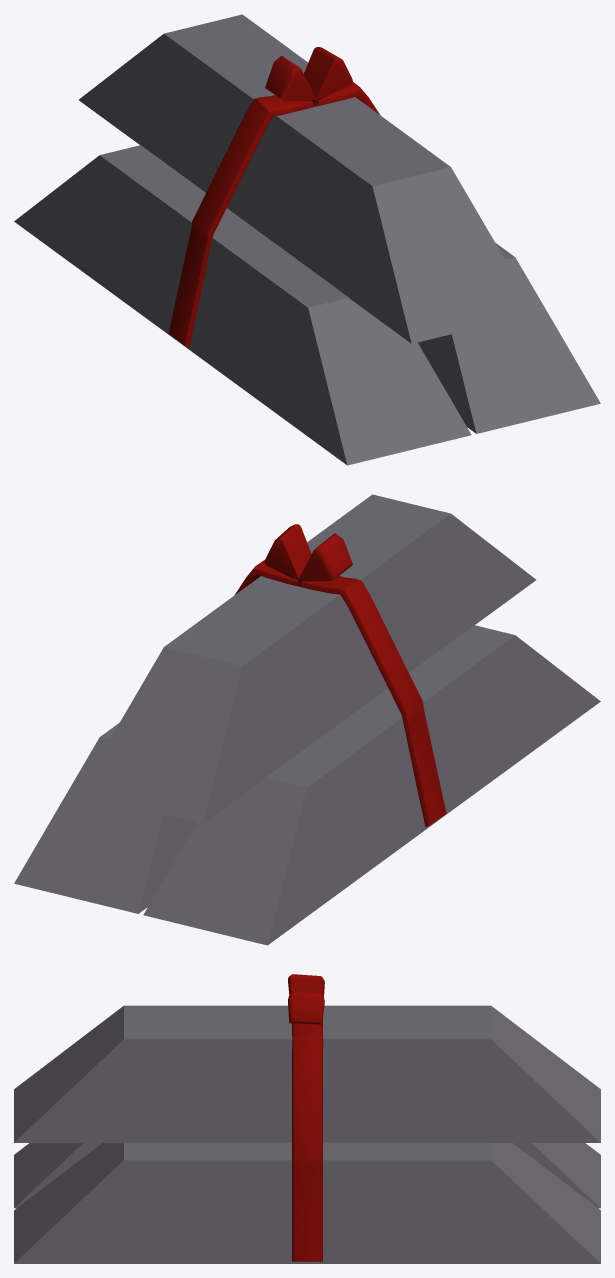
Rendered from METAL.fbx.
The picture shows the model from 3 angles, top to bottom: view 1: azimuth 30°, elevation 25°; view 2: azimuth 150°, elevation 25°; view 3: azimuth 270°, elevation 25°; orthographic projection. The views are drawn at different scales.
Visible parts, largest first — view 1: barrra de metal; view 2: barrra de metal; view 3: barrra de metal.
Part boxes in pixels (x1=…): barrra de metal: x1=14, y1=14, x2=600, y2=465; barrra de metal: x1=14, y1=494, x2=600, y2=945; barrra de metal: x1=14, y1=974, x2=600, y2=1263.
Size of the model in its own units: 0.2313 by 0.2158 by 0.5071.
